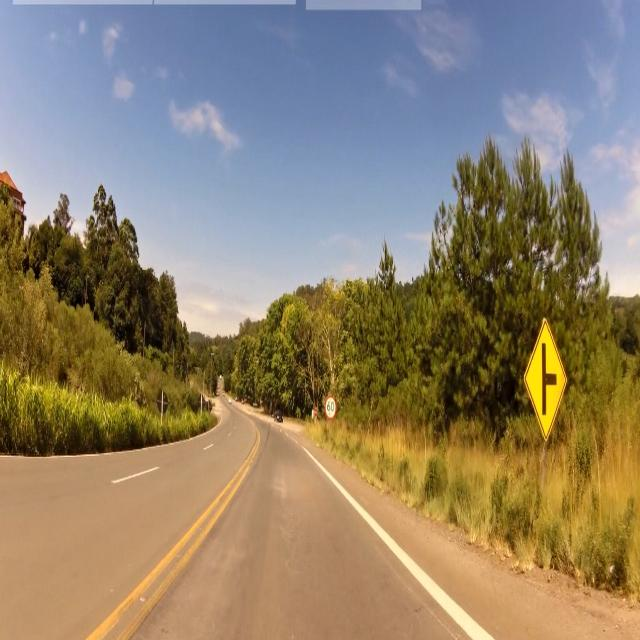A-7b: (526, 320, 568, 439)
